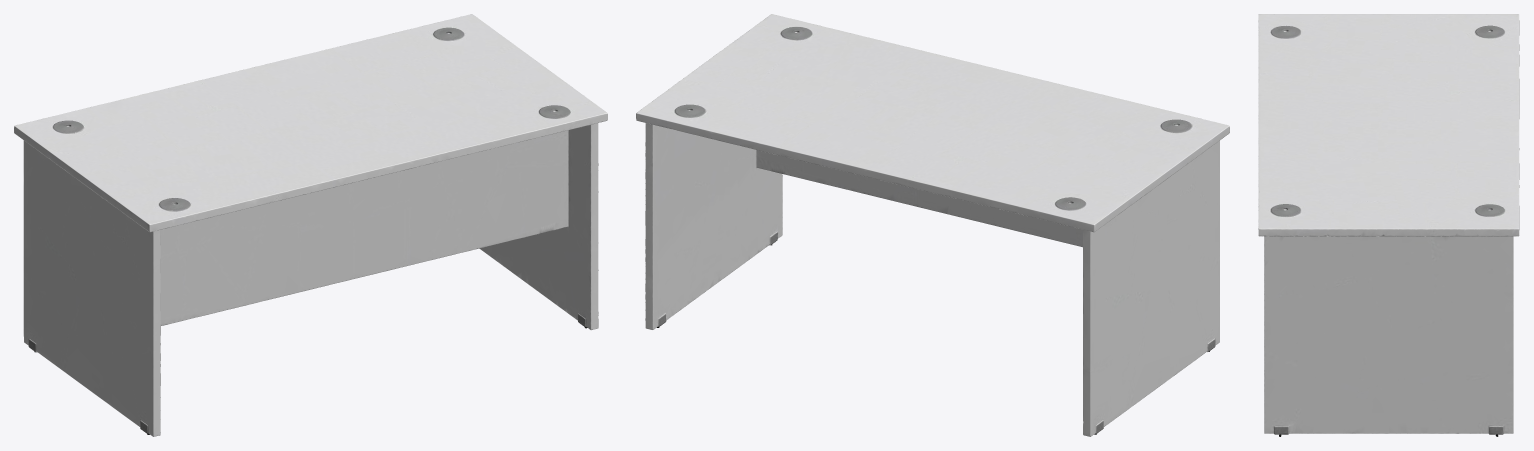
The model's file is mesa.glb.
The picture shows the model from 3 angles, left to right: view 1: azimuth 30°, elevation 25°; view 2: azimuth 150°, elevation 25°; view 3: azimuth 270°, elevation 25°; orthographic projection. The views are drawn at different scales.
Size of the model in its own units: 1.9 by 0.8824 by 0.9755.
Materials: 1 (1 with a texture image).
